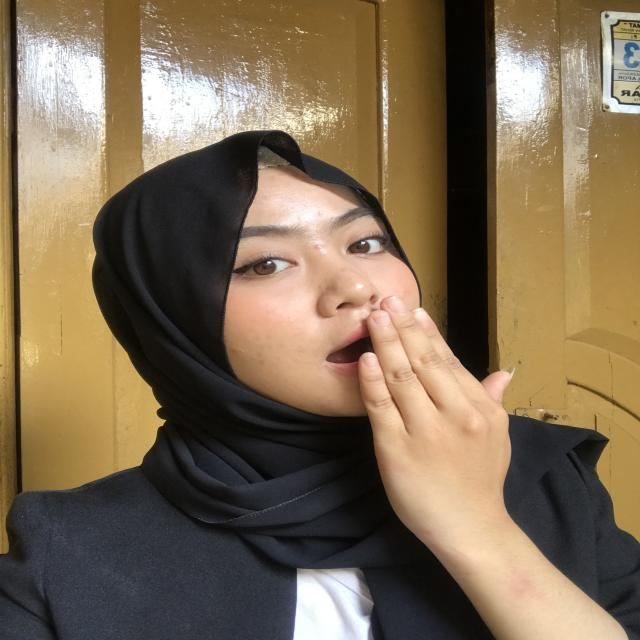ngantuk: (309, 290, 565, 558)
